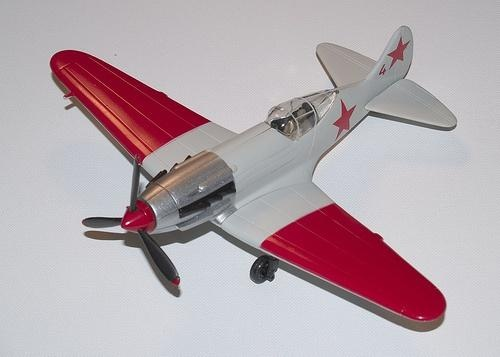aeroplane: (44, 24, 459, 331)
